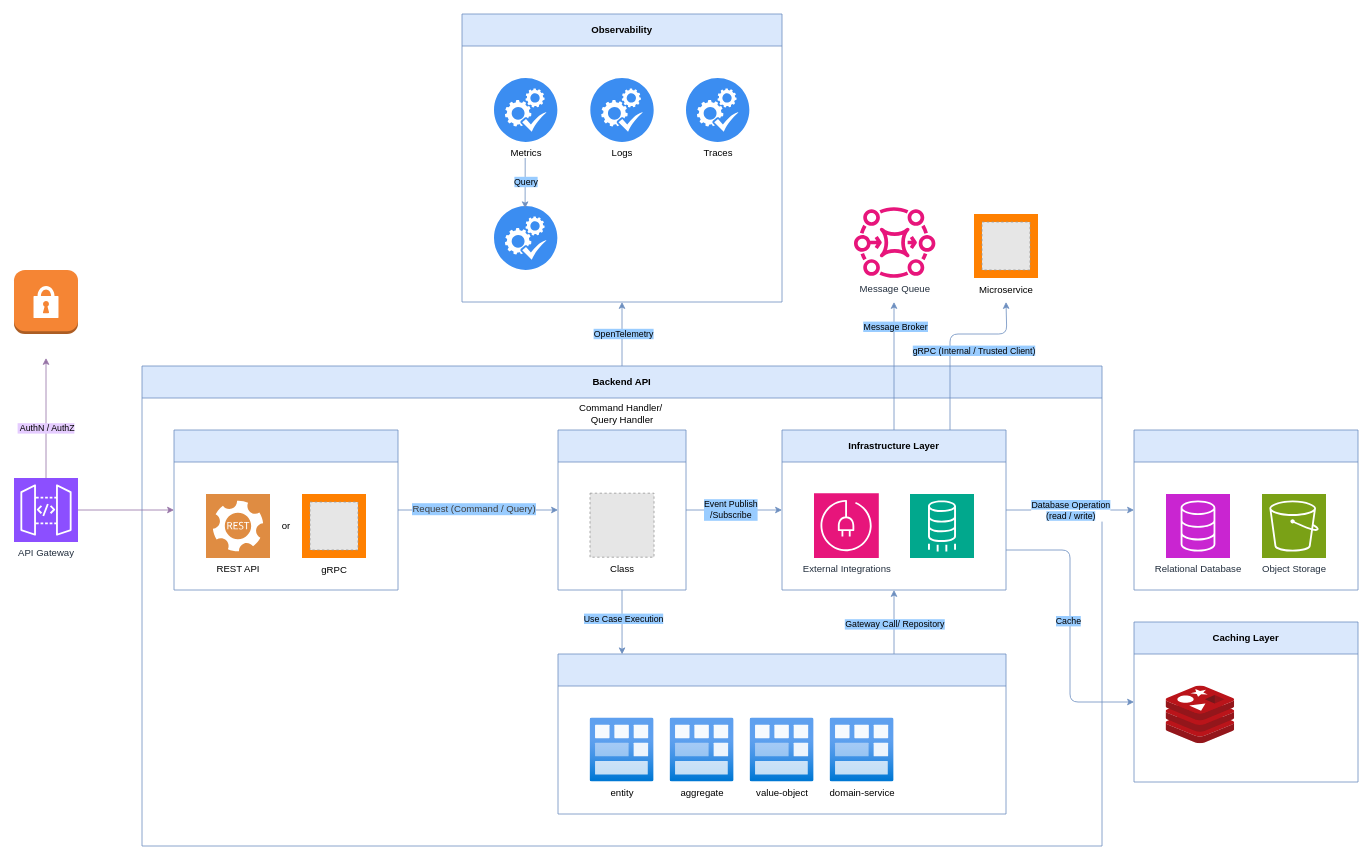
Some shapes in this 1372 by 860 pixel diagram are drawn without their labels. Grey dashed boxes stand in for pictures. The shapes that lost their labels are listed below. From the top down, each one's box as (x1, y1, x2, y2) in pixels, then its label:
(494, 206, 557, 270): Visualize
(13, 269, 78, 334): IAM Service
(173, 429, 398, 590): Presentation Layer
(557, 429, 686, 590): Application Layer (Use Case)
(909, 493, 974, 558): Persistence Adapter
(1133, 429, 1358, 590): Data Layer
(557, 653, 1006, 814): Domain Layer ( Bounded Context Modules )
(1166, 686, 1234, 743): Cache Memory
